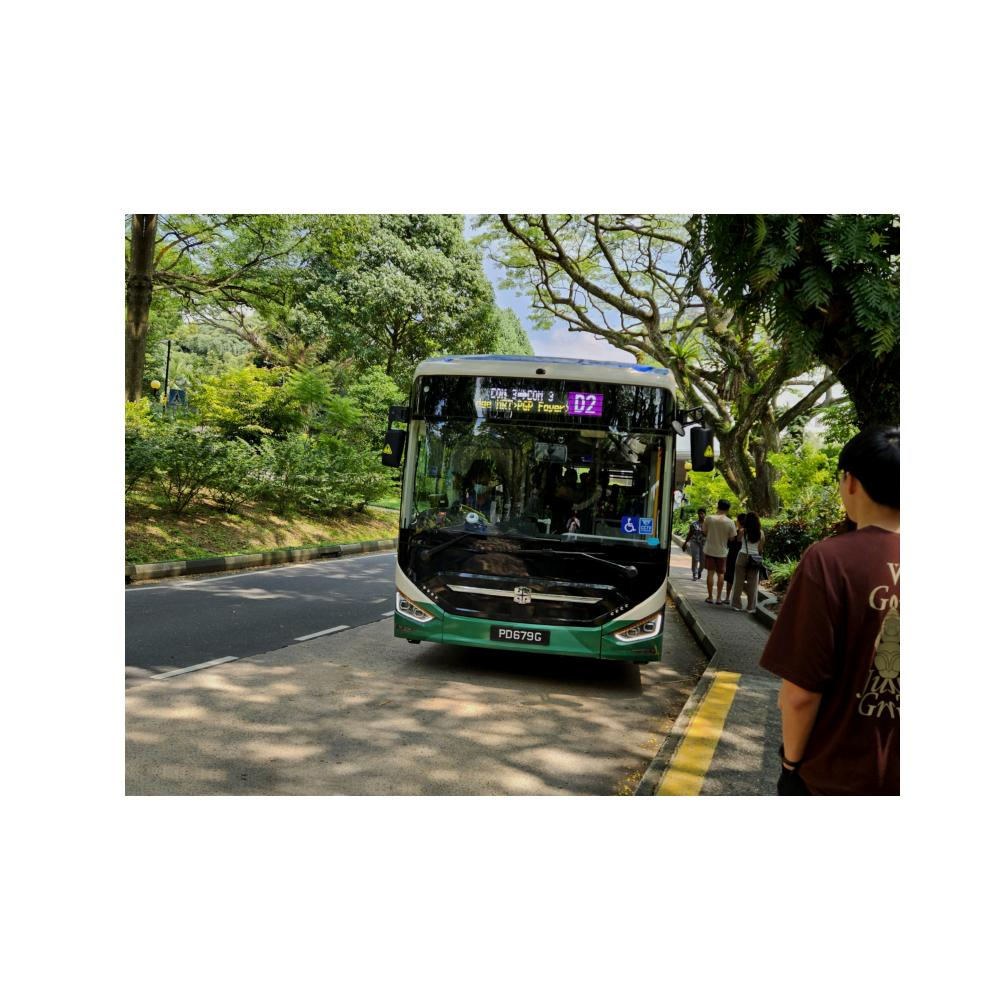bus: (380, 350, 705, 680)
